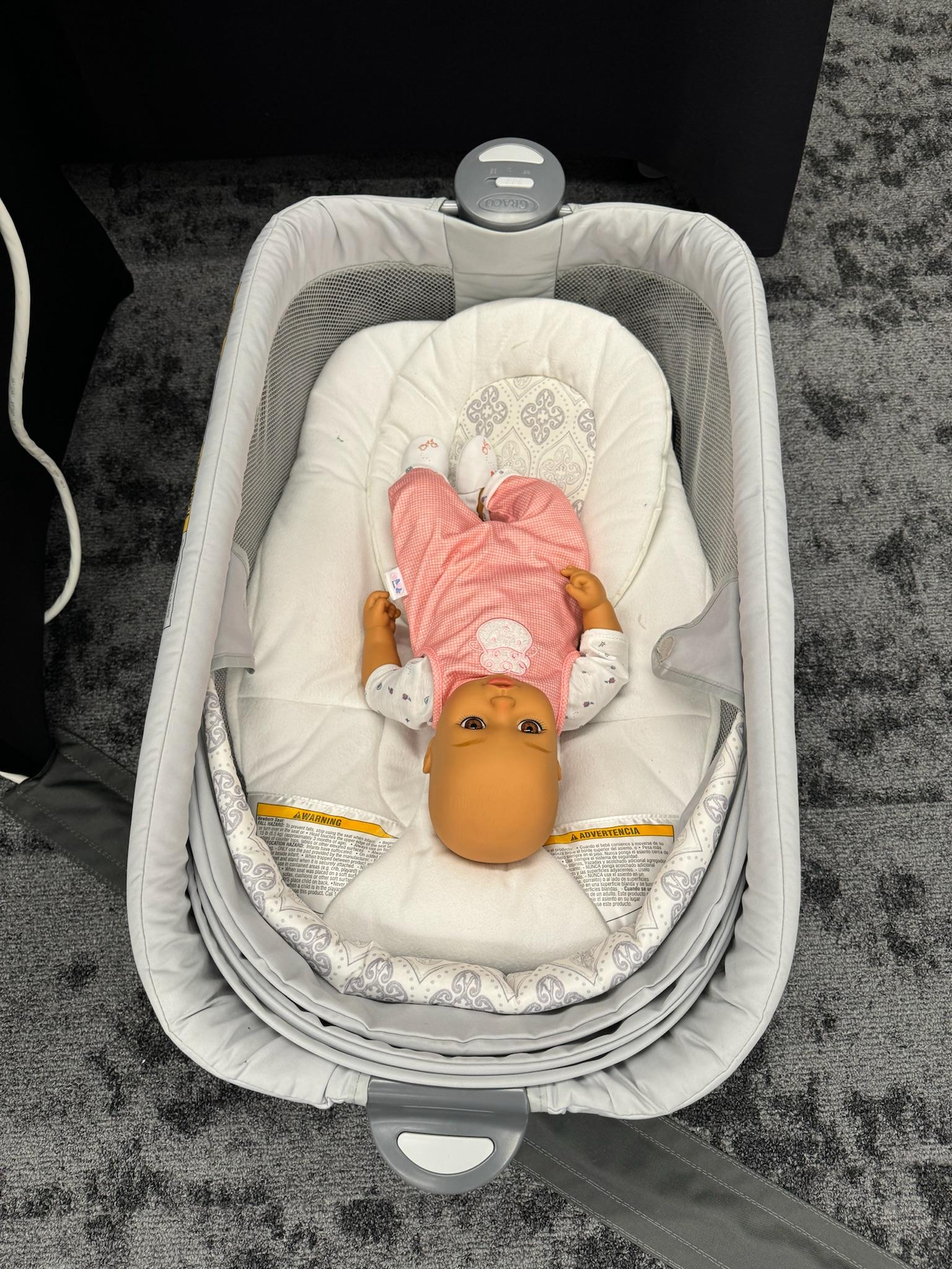baby: (361, 428, 627, 873)
